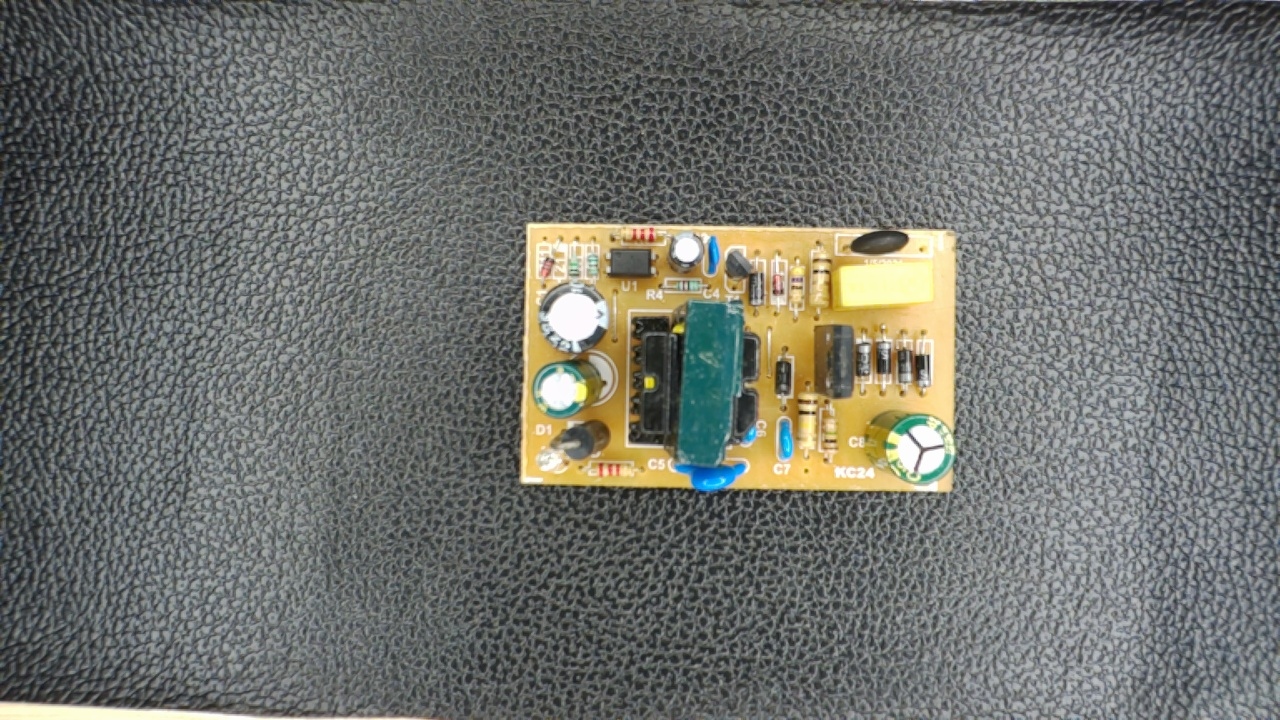fuse: (834, 228, 918, 257)
hv_capacitor: (863, 408, 956, 485)
mov: (666, 459, 752, 491)
optocoupler: (596, 243, 668, 279)
